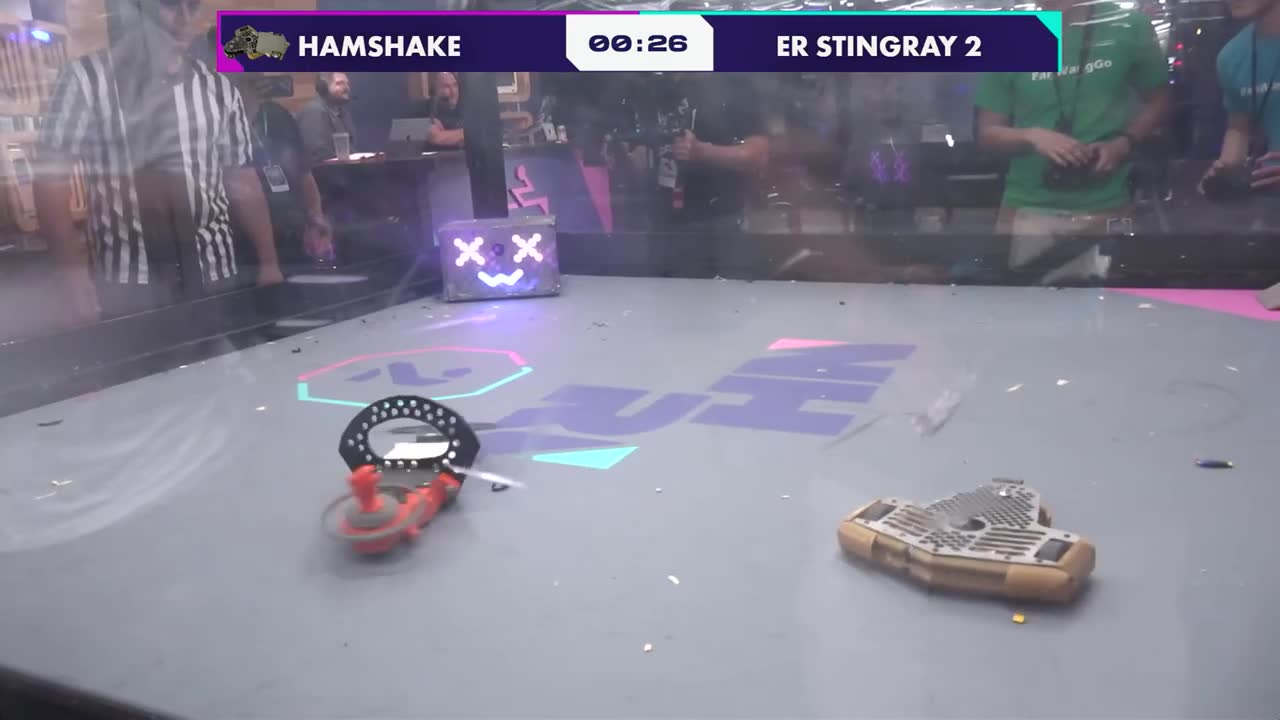combatbot: (839, 478, 1099, 616), (319, 394, 485, 554)
debris: (1193, 455, 1237, 473)
housebot: (436, 222, 561, 306)
